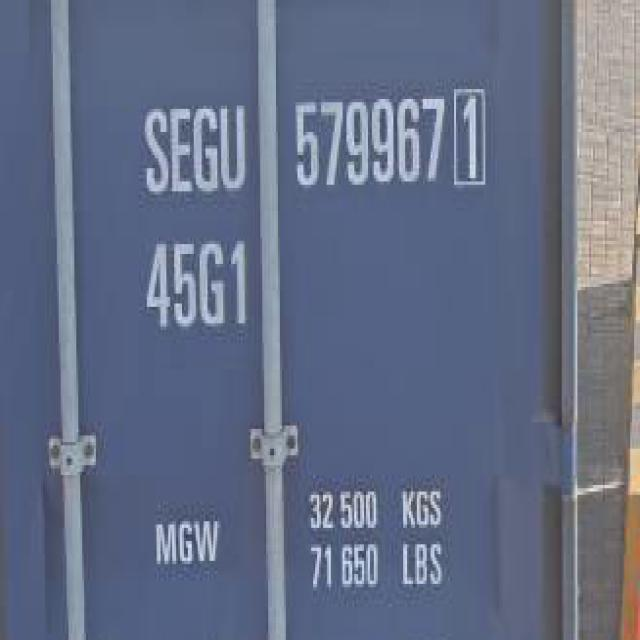dv: (451, 78, 492, 198)
owner: (140, 96, 248, 206)
serial: (290, 89, 446, 195)
size: (138, 227, 251, 339)
